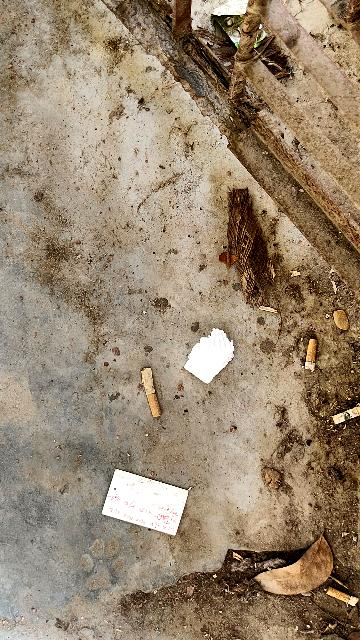cocksheet: (180, 323, 247, 391)
